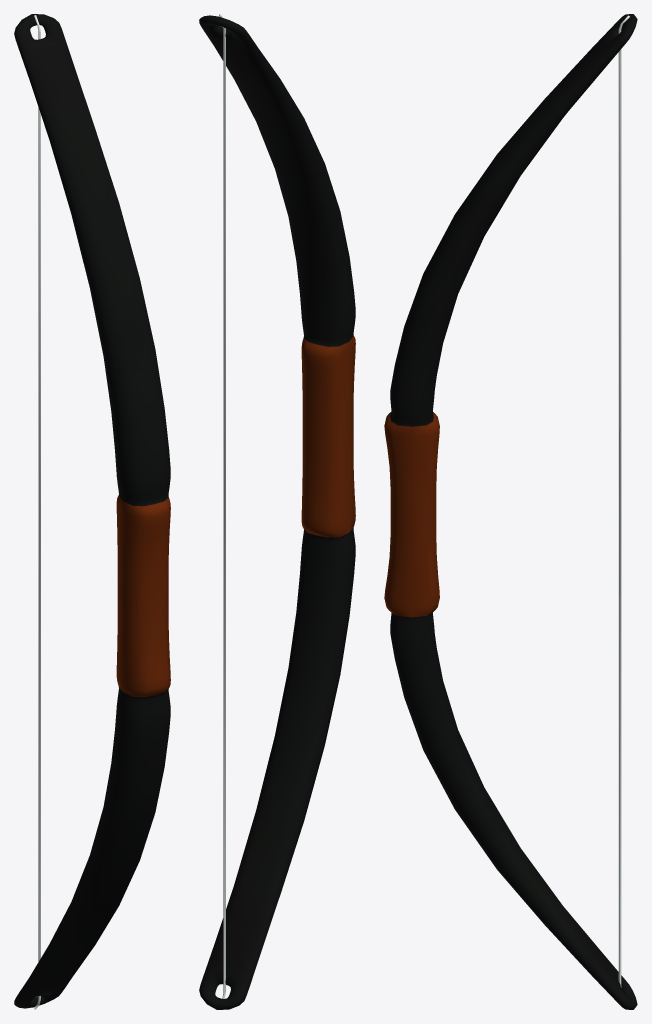
Rendered from Bow.fbx.
3 views of the same model, side by side, from view 1: azimuth 30°, elevation 25°; view 2: azimuth 150°, elevation 25°; view 3: azimuth 270°, elevation 25° (orthographic).
Visible parts, largest first — view 1: Wood, String; view 2: Wood, String; view 3: Wood, String.
Boxes of the visible parts, <box> form: Wood: <box>14,14,170,1008</box>; String: <box>34,15,40,1009</box>; Wood: <box>199,15,355,1009</box>; String: <box>219,14,225,998</box>; Wood: <box>384,14,637,1009</box>; String: <box>618,15,629,987</box>.
Bounding box in the file's own units: 5.47 × 113 × 26.01.
